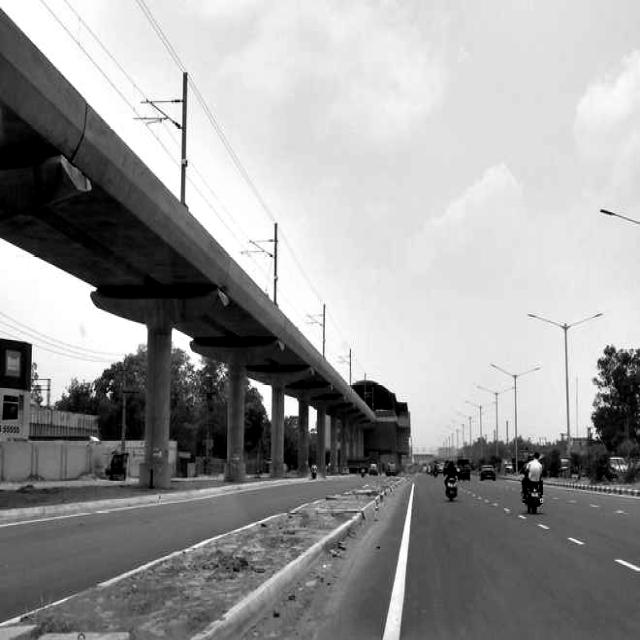cleat: (2, 207, 640, 640)
